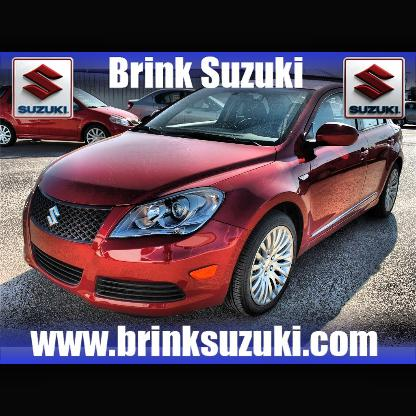Suzuki Kizashi Sedan 2012: (23, 79, 406, 314)
